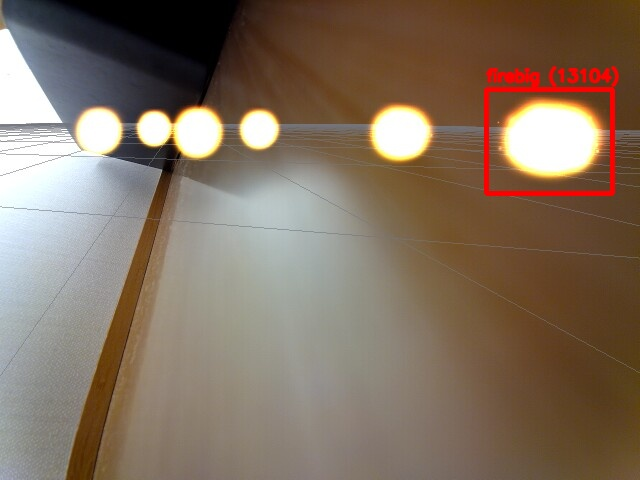firebig: (486, 89, 612, 193)
